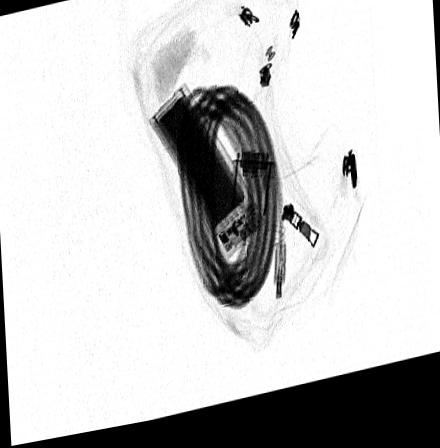Powerbank: (147, 86, 273, 272)
